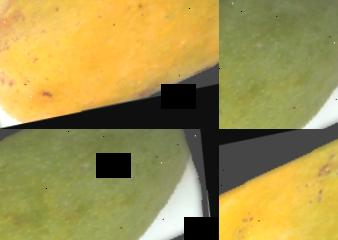PartiallyRipe: (0, 0, 219, 129), (219, 129, 338, 240)
Unripe: (0, 129, 219, 240), (219, 0, 338, 129)
